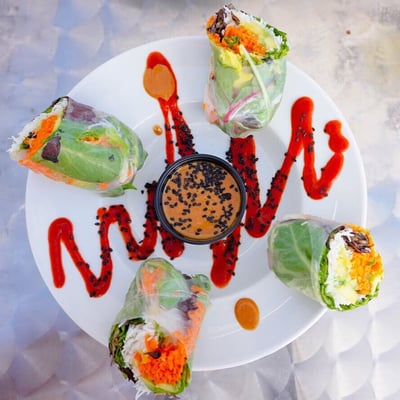sushi: (8, 96, 147, 198)
